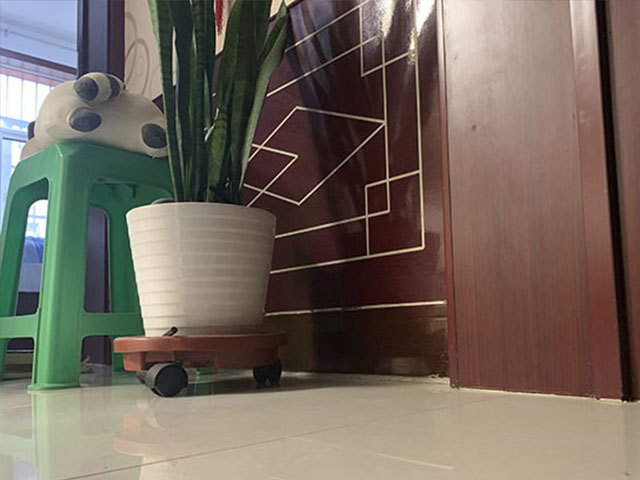stool: (1, 138, 184, 394)
